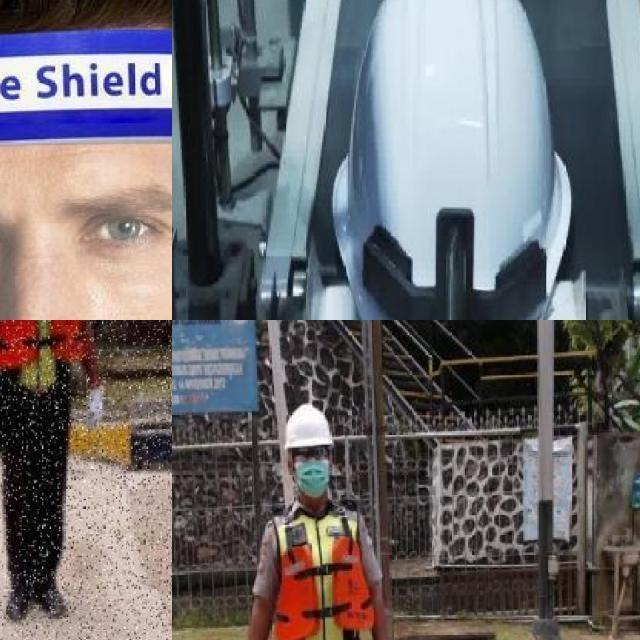apron: (82, 385, 105, 434)
